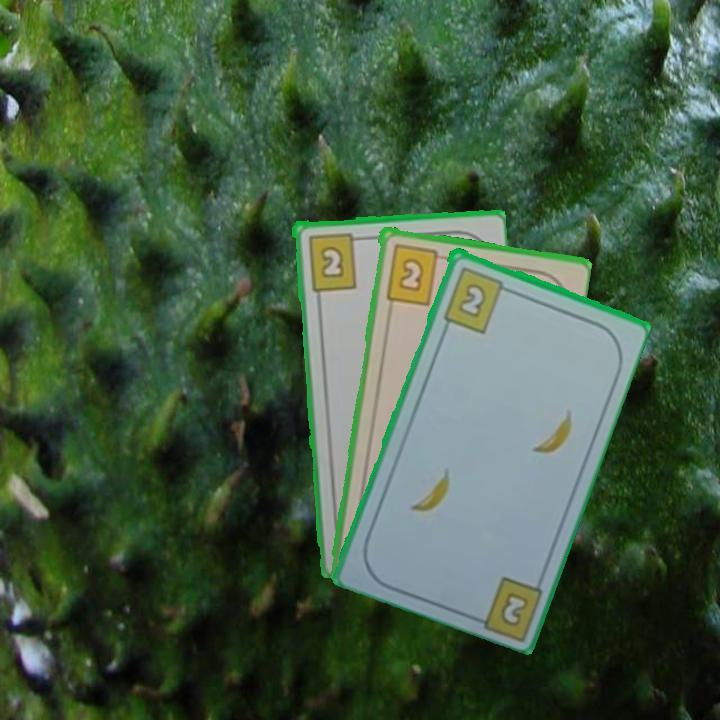2b: (439, 263, 514, 335), (381, 240, 450, 307), (304, 229, 365, 293), (496, 588, 532, 629)
